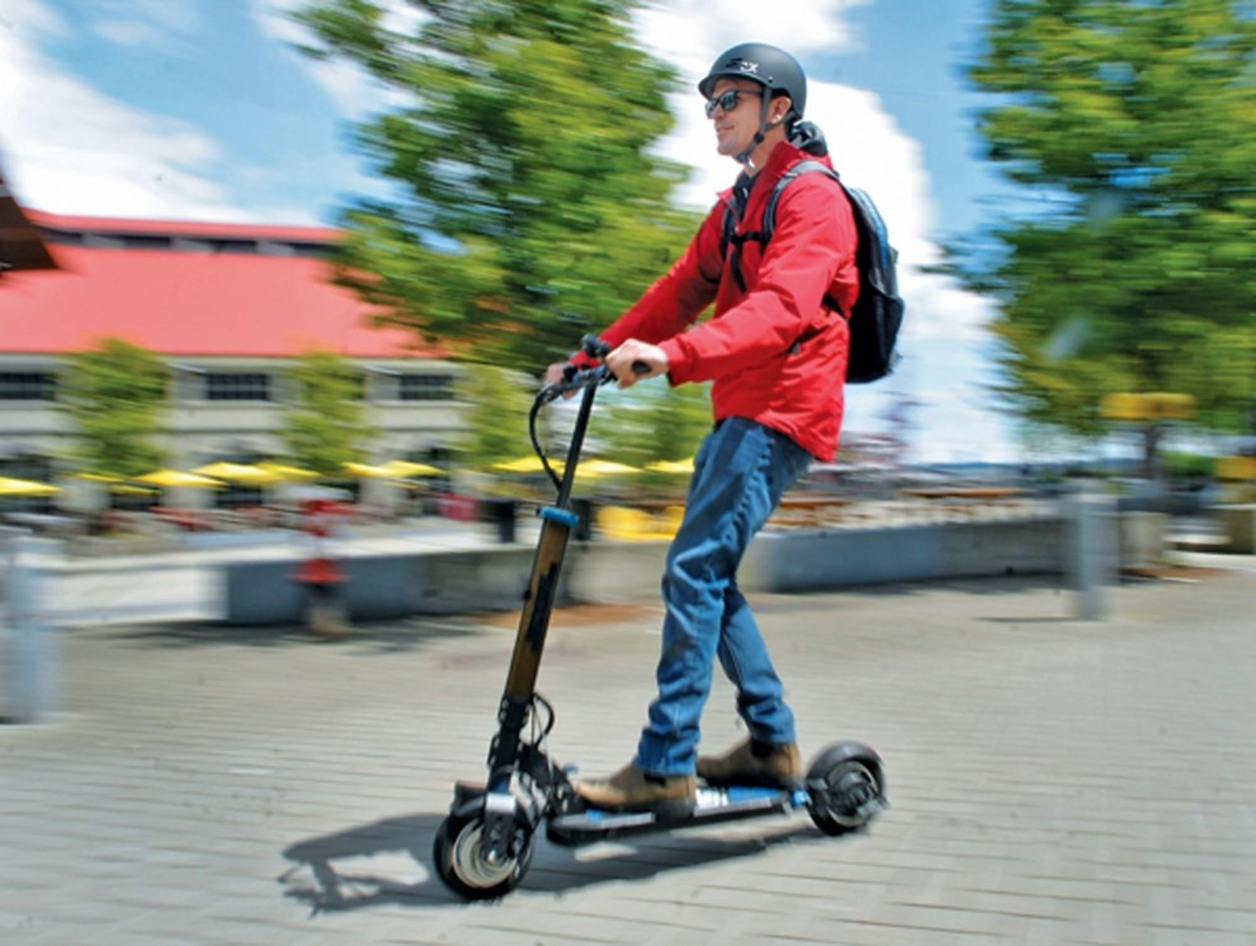helmet: (699, 40, 803, 169)
human: (555, 38, 859, 788)
kickboard: (424, 781, 886, 903)
